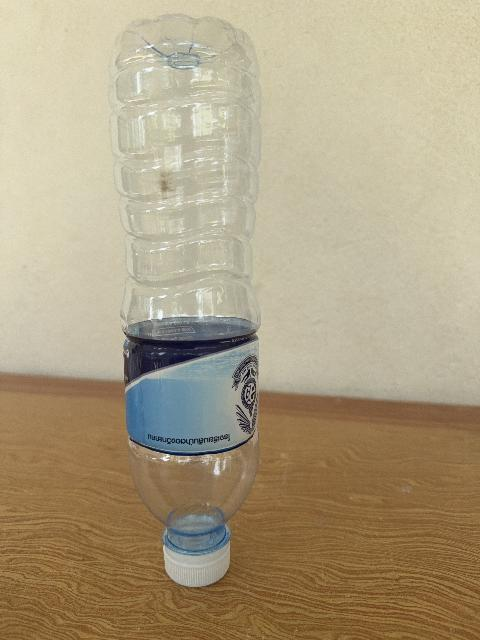bottle: (110, 15, 260, 586)
